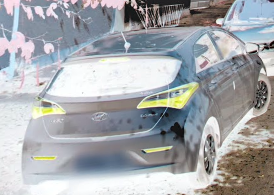car: (22, 28, 271, 182)
